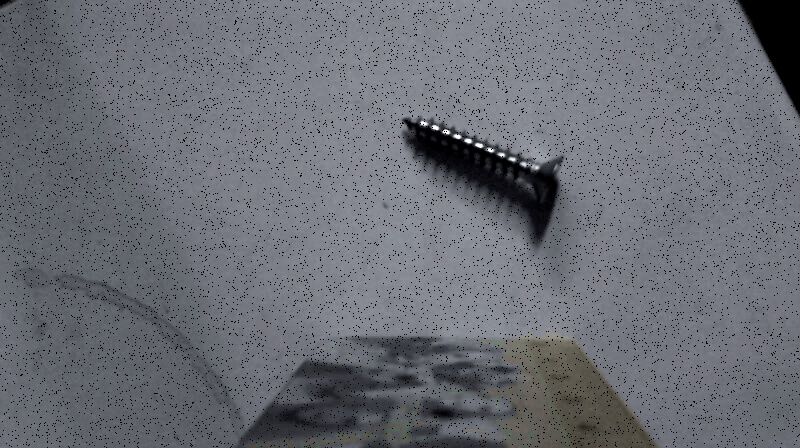S001: (397, 110, 569, 203)
